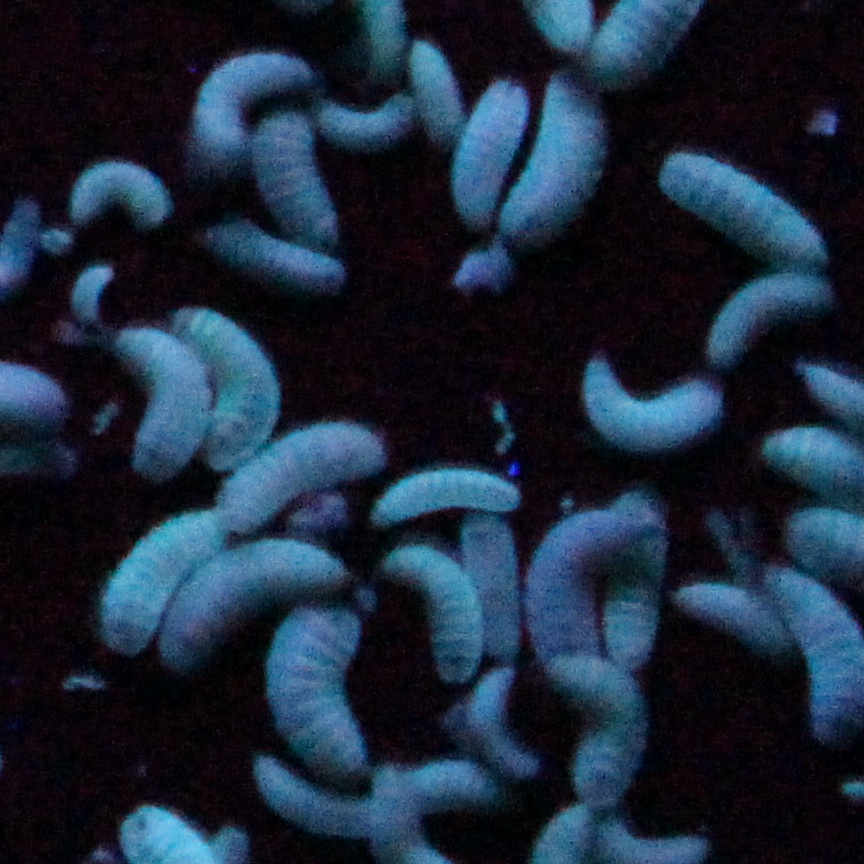larve: (154, 540, 333, 656), (662, 146, 820, 261), (505, 72, 612, 238), (531, 515, 654, 659), (267, 608, 367, 777), (223, 420, 380, 521), (105, 507, 215, 644), (180, 310, 271, 466), (554, 661, 643, 808), (120, 321, 200, 482), (195, 59, 318, 158), (389, 544, 475, 684), (585, 358, 718, 444), (452, 80, 528, 226), (710, 272, 828, 361), (597, 490, 657, 664), (249, 751, 374, 831), (256, 121, 333, 240), (205, 225, 341, 290), (462, 508, 513, 653), (374, 467, 516, 518), (75, 162, 169, 235), (467, 661, 526, 776), (679, 584, 785, 644), (305, 92, 415, 146), (413, 46, 464, 141)
